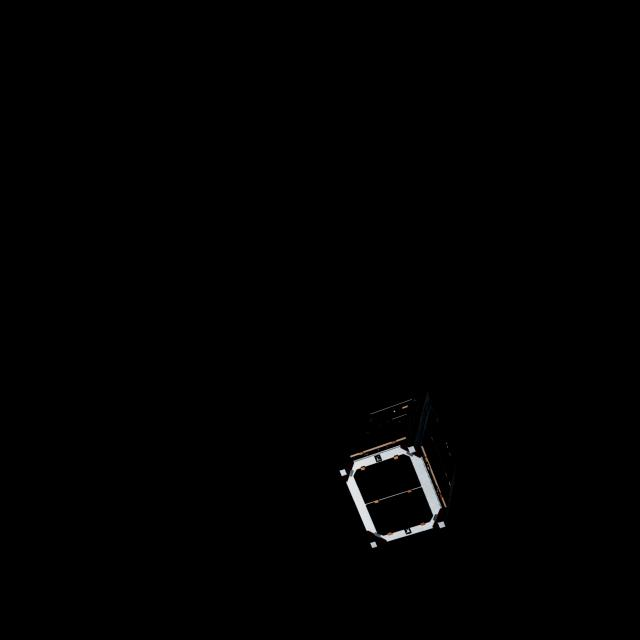medium_debris: (336, 394, 464, 552)
